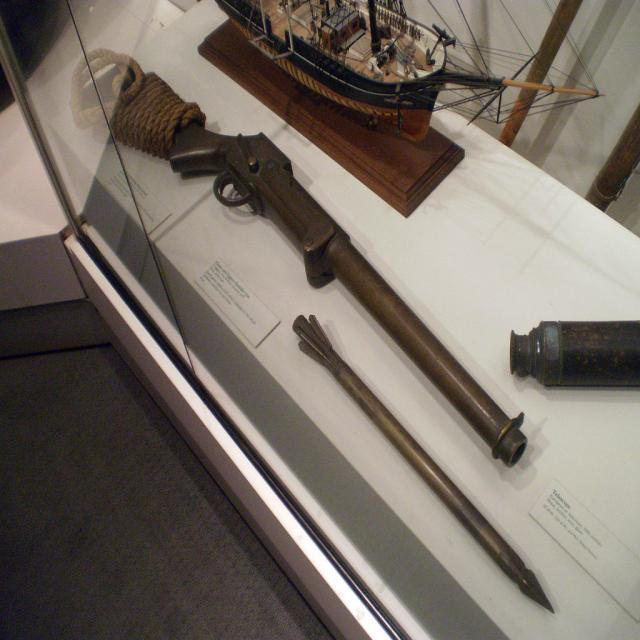weapon: (68, 54, 529, 468)
